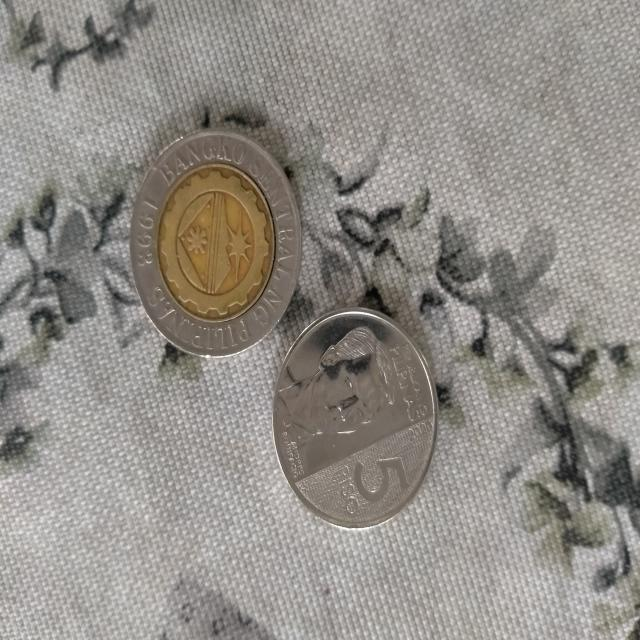10_Old_Back: (127, 122, 299, 357)
5_New_Front: (329, 451, 413, 520)
